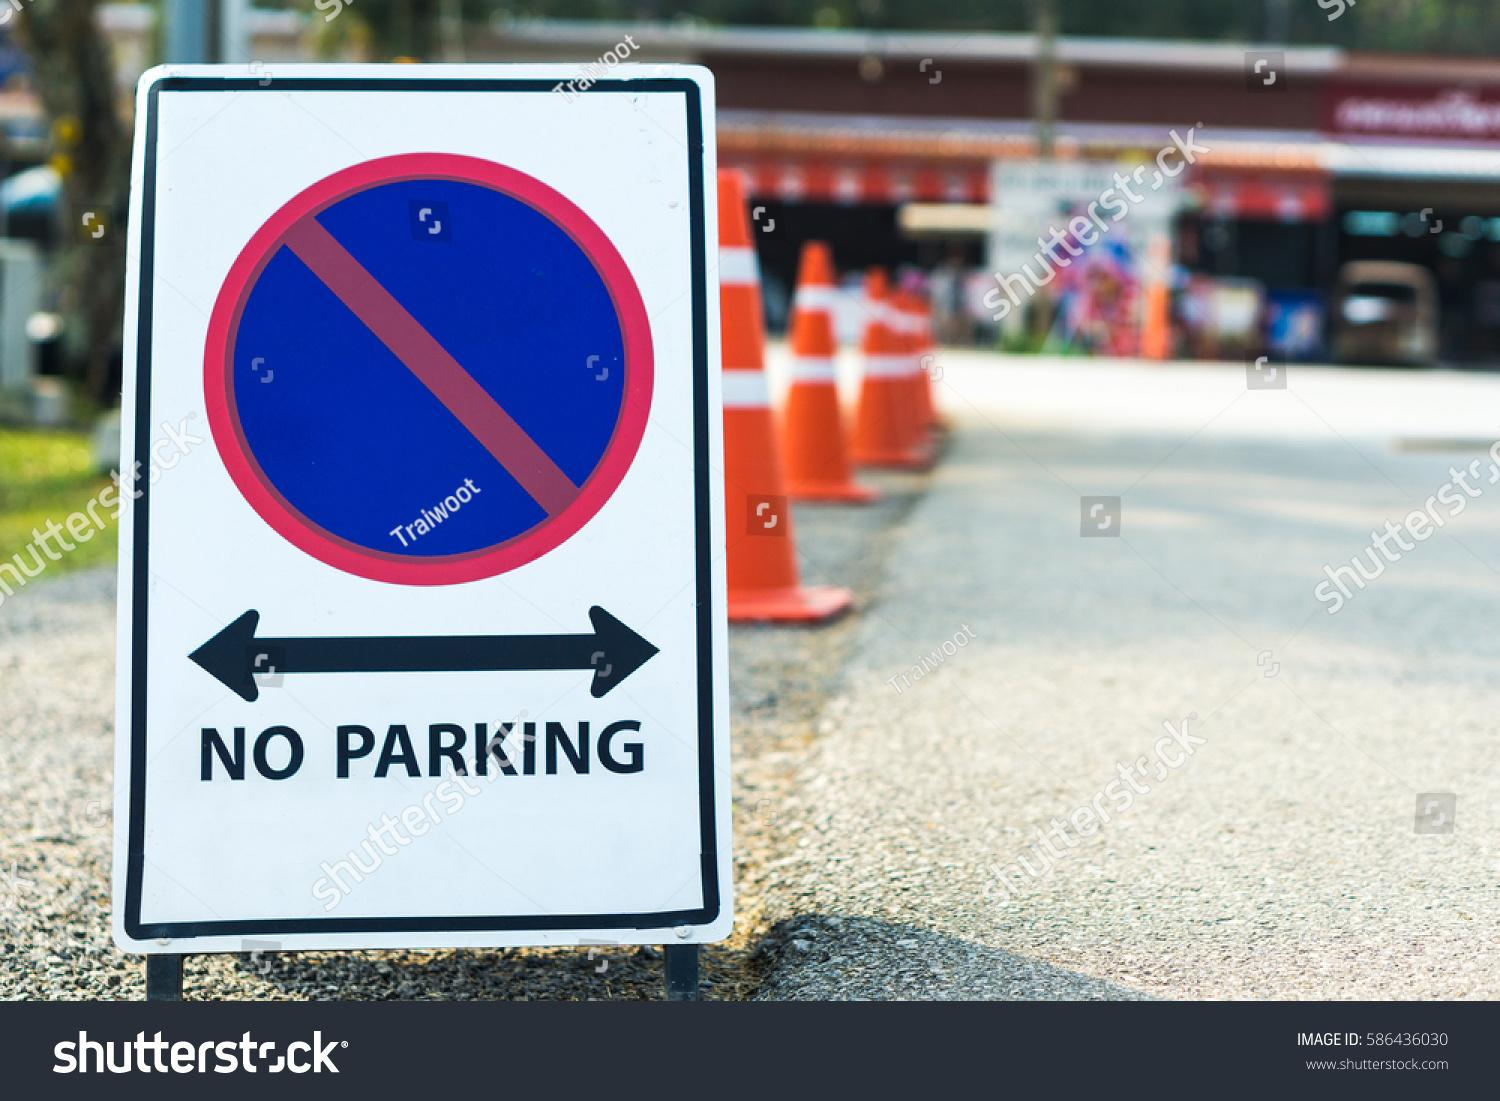No Parking: (178, 146, 684, 818)
